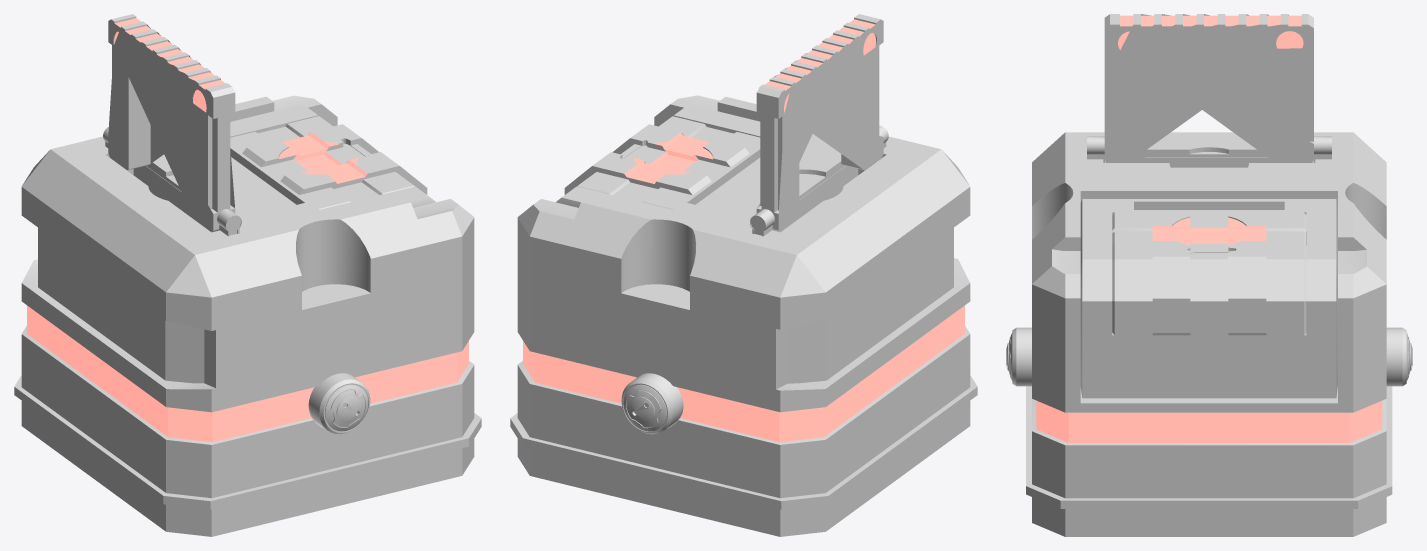
File: Maleta.fbx
3 views of the same model, side by side, from view 1: azimuth 30°, elevation 25°; view 2: azimuth 150°, elevation 25°; view 3: azimuth 270°, elevation 25° (orthographic).
Visible parts, largest first — view 1: Cylinder.014; view 2: Cylinder.014; view 3: Cylinder.014.
Part boxes in pixels (bbox=[...]): Cylinder.014: bbox=[14, 14, 481, 536]; Cylinder.014: bbox=[510, 14, 977, 536]; Cylinder.014: bbox=[1006, 14, 1412, 536].
Size of the model in its own units: 57.23 by 69.91 by 63.45.
